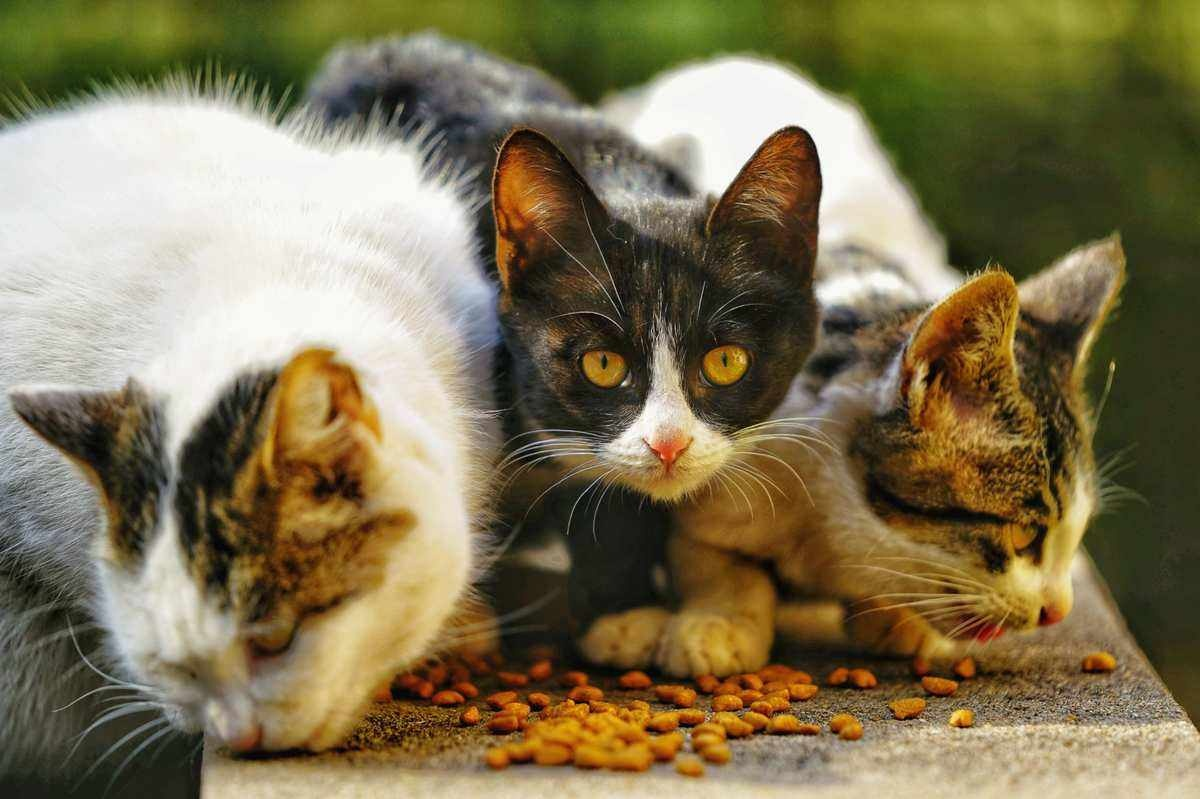cat: (1, 76, 499, 760), (283, 29, 819, 654), (613, 52, 1124, 674)
